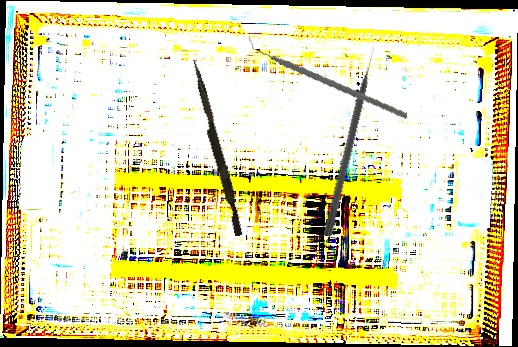Chopper: (248, 13, 408, 139)
Pusher: (322, 45, 381, 238), (185, 59, 248, 237)
